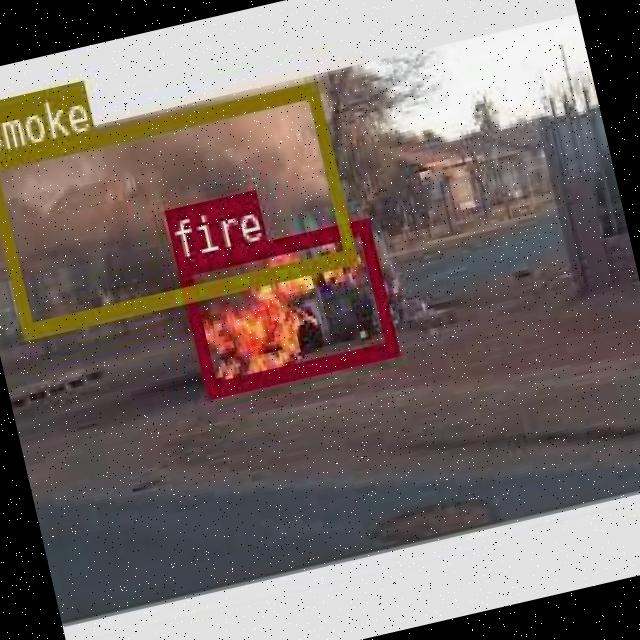fire: (174, 215, 395, 394)
smoke: (0, 78, 354, 335)
